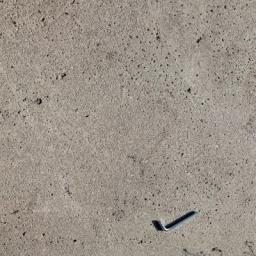FOD: (154, 210, 202, 235)
